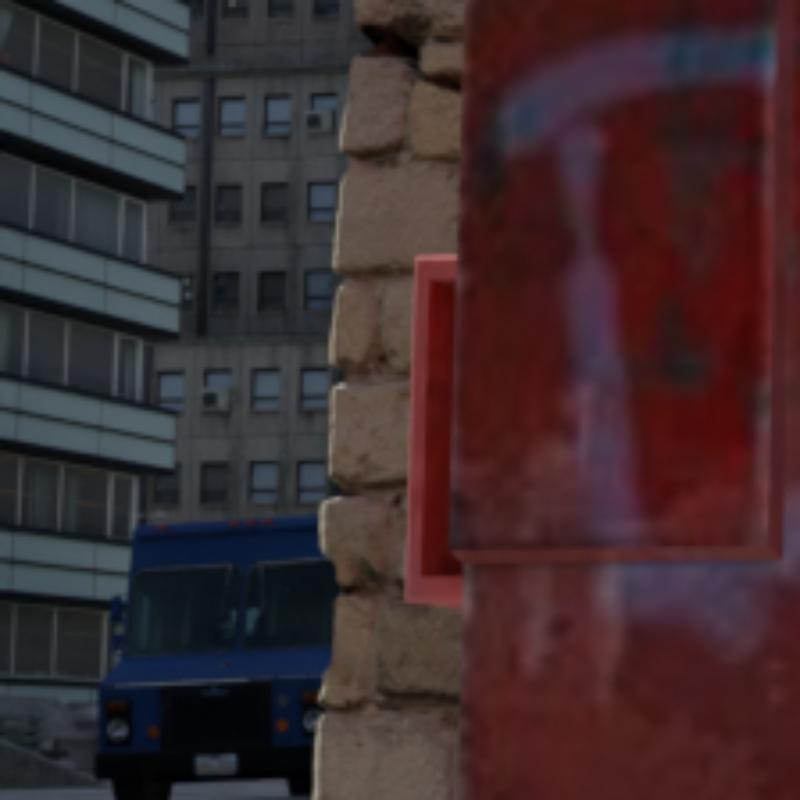pothole: (389, 32, 457, 93)
